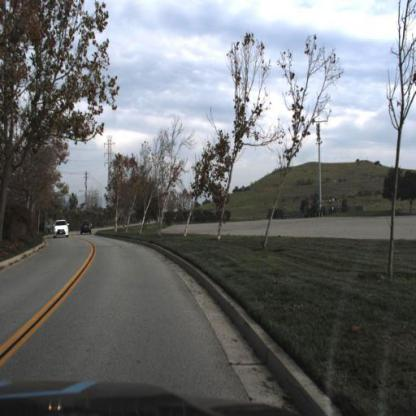car: (53, 218, 71, 241), (80, 219, 97, 238)
